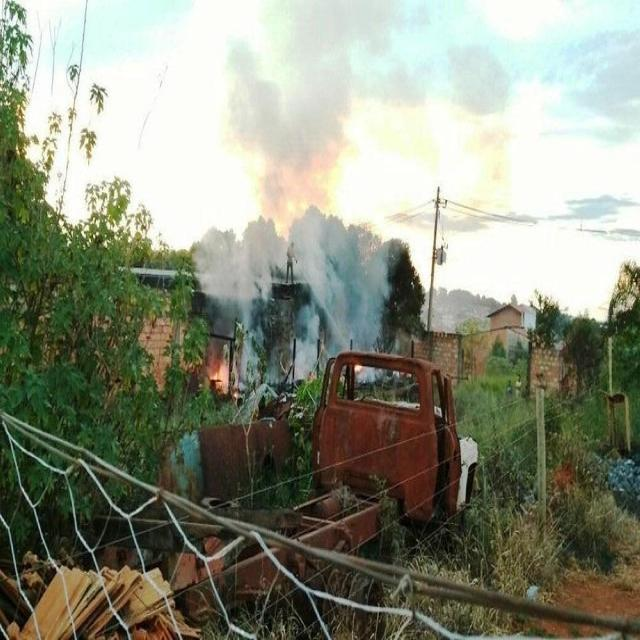Fire: (209, 357, 232, 399)
Smoke: (205, 202, 389, 346), (296, 342, 320, 388), (238, 348, 260, 396)
